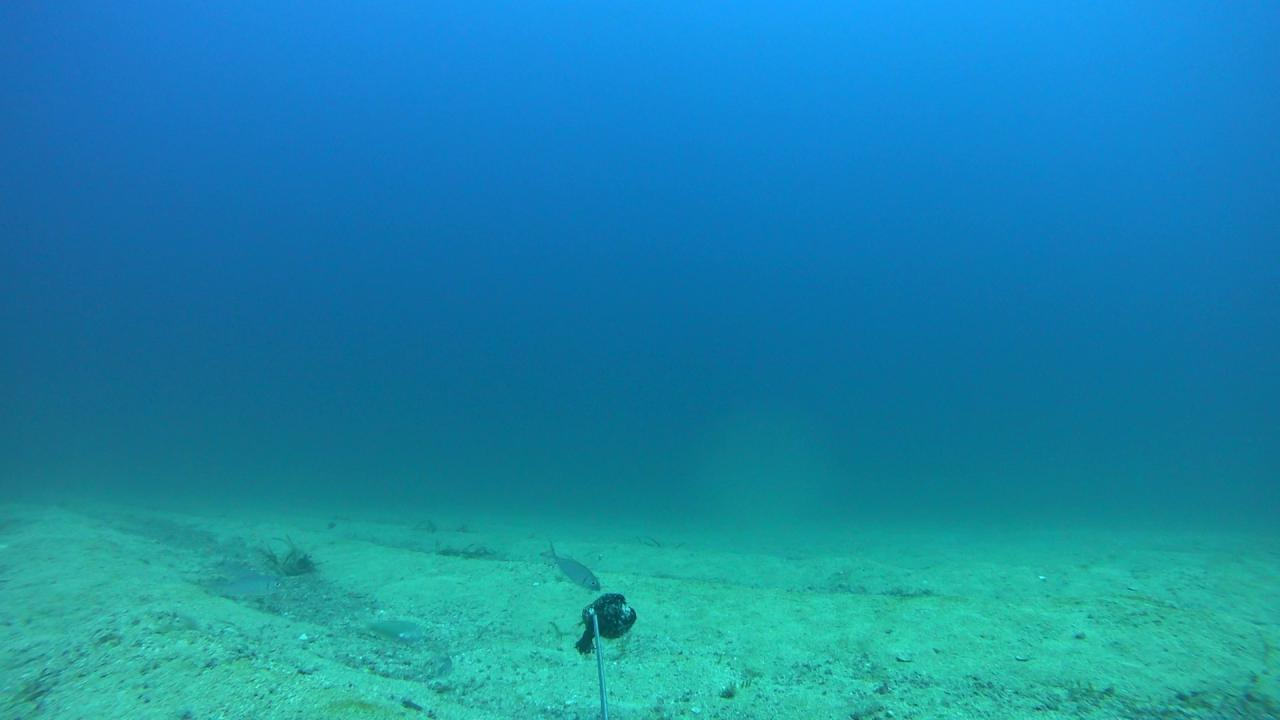pagellus: (539, 539, 600, 591)
